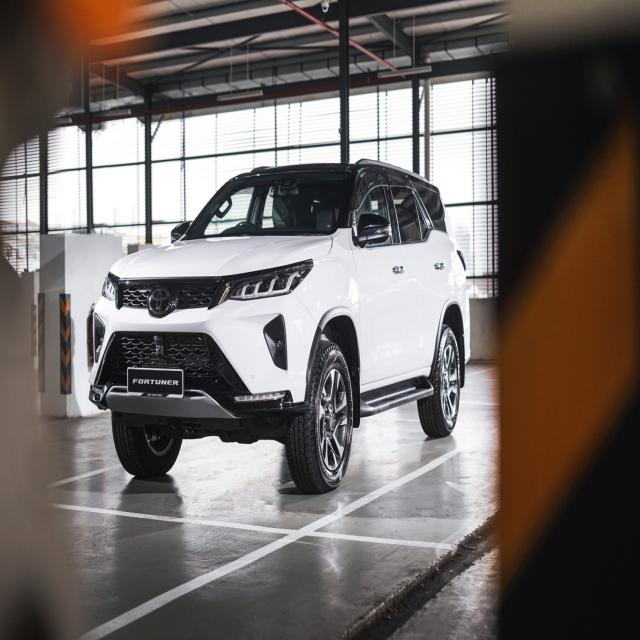light_vehicle: (86, 158, 472, 493)
